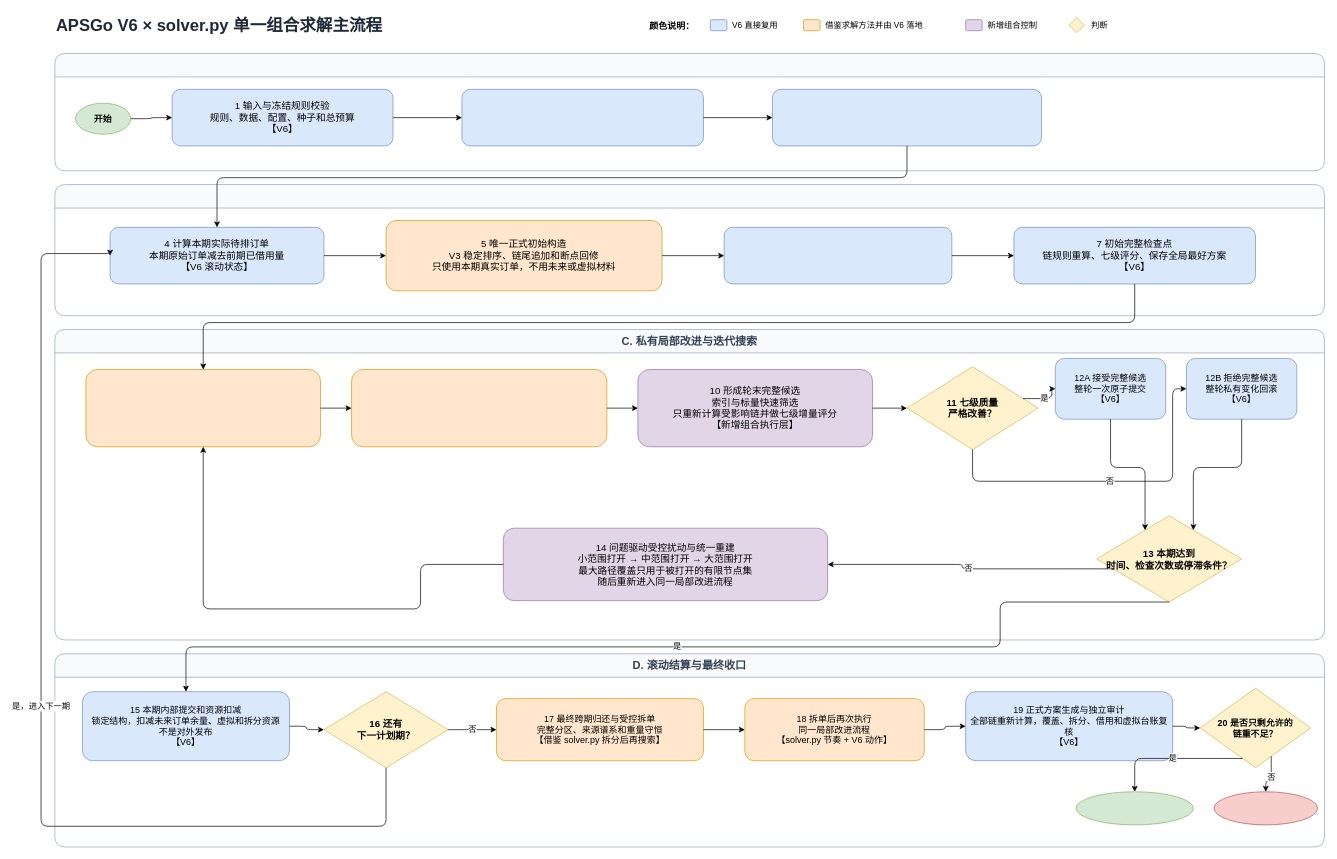
Image size: 1337x859. Some labels were removed from this diagram. The box of each missing label's shape, as (x1, y1, x2, y2) in pixels:
2 创建唯一求解会话 规则运行时、规格兼容图、候选索引只建一次 【V6】: (461, 89, 703, 146)
3 建立滚动资源状态 已锁定前期｜当前活动期｜未排未来资源池 【V6 状态与台账改造】: (772, 89, 1042, 146)
6 构造 V6 工作方案 建立链状态、节点位置和资源占用 【V6 PlanState】: (723, 227, 952, 284)
8 固定顺序局部改进 整链合并 → 单订单移动 → 连续片段移动 → 两链或相关多链重建 【solver.py 控制节奏 + V6 动作】: (85, 369, 321, 447)
9 资源按需开放 本期真实资源耗尽后开放未来真实订单 完整订单优先，必要时受控取用部分重量 直接补链耗尽后才开放受限虚拟桥 【V6 资格、限额和资源台账】: (351, 369, 607, 447)
A. 一次性准备: (54, 53, 1324, 171)
B. 当前计划期初始方案: (54, 184, 1324, 316)
发布正式排产结果: (1075, 791, 1193, 825)
拒绝发布并输出问题报告: (1213, 791, 1318, 825)
